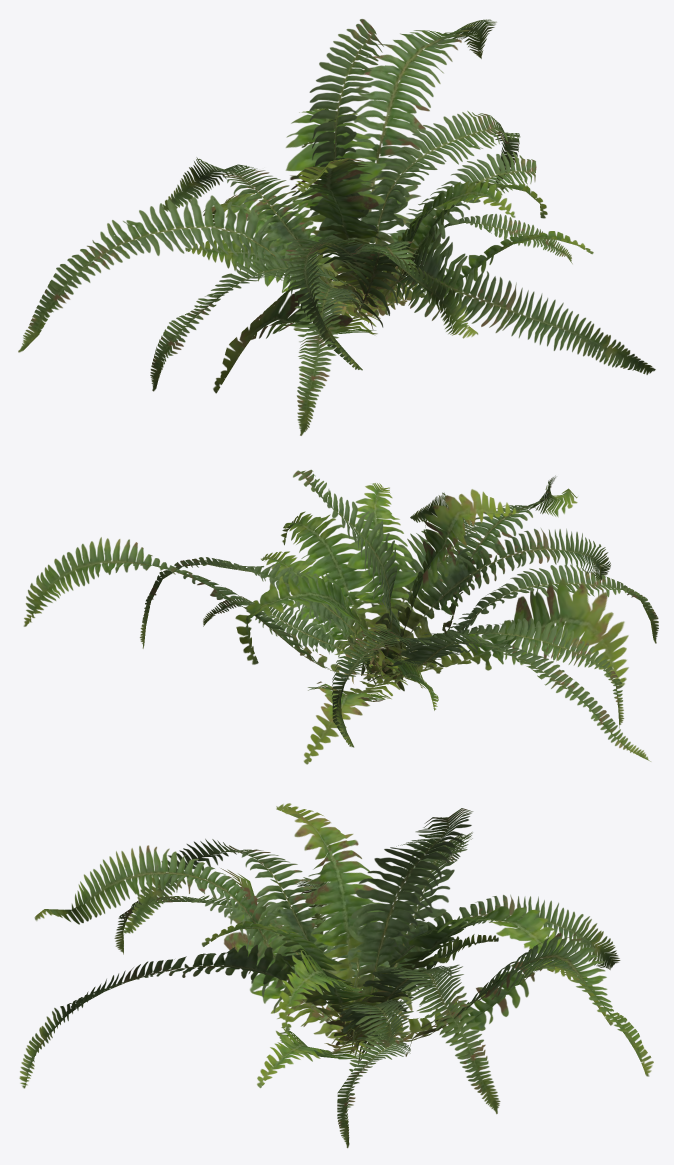
The model's file is fern_a.glb.
3 renders of one model, top to bottom at view 1: azimuth 30°, elevation 25°; view 2: azimuth 150°, elevation 25°; view 3: azimuth 270°, elevation 25°, orthographic. The views are drawn at different scales.
Visible parts, largest first — view 1: fern_02_b_w; view 2: fern_02_b_w; view 3: fern_02_b_w.
Boxes of the visible parts, bbox=[...] form: fern_02_b_w: bbox=[18, 19, 655, 435]; fern_02_b_w: bbox=[23, 469, 658, 764]; fern_02_b_w: bbox=[19, 803, 653, 1148].
Bounding box in the file's own units: 1.74 × 0.75 × 1.57.
1 material, 1 textured.
